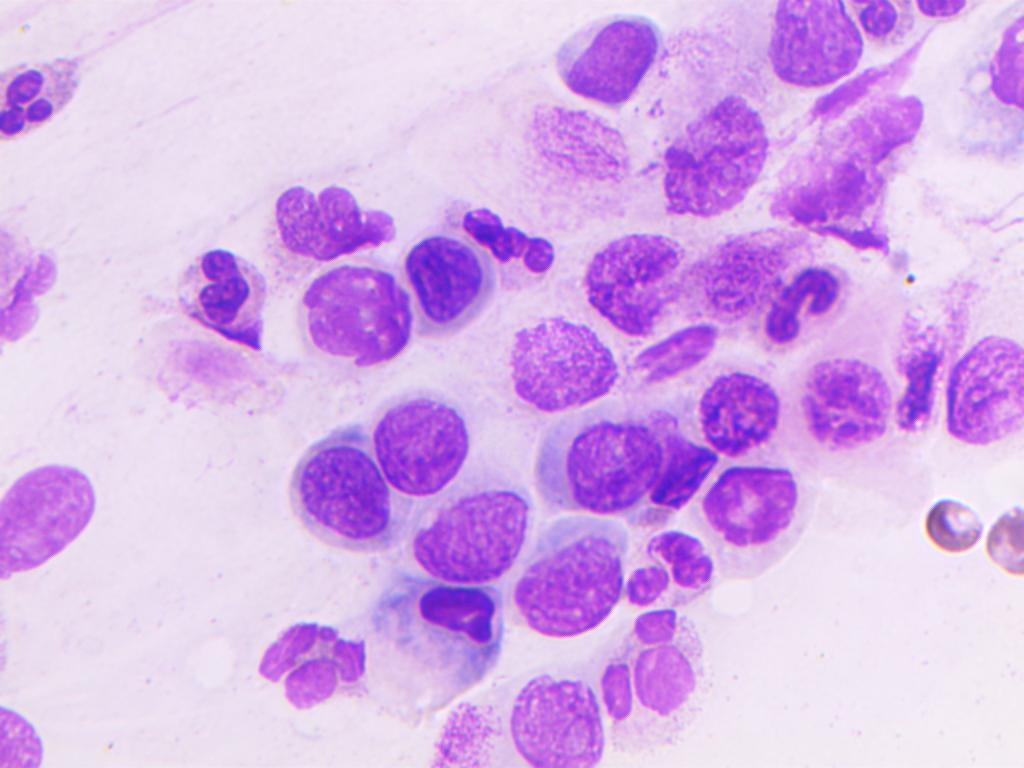artifact: (769, 86, 943, 258), (266, 182, 401, 263), (983, 7, 1024, 133), (917, 493, 988, 564), (989, 489, 1024, 594)
epithelial: (667, 87, 778, 231), (517, 513, 633, 647), (0, 447, 99, 590), (297, 256, 413, 372), (561, 404, 669, 524), (793, 351, 903, 467), (490, 658, 602, 767), (687, 458, 811, 555), (287, 443, 387, 560), (485, 315, 621, 401), (575, 218, 679, 330), (399, 492, 531, 578), (556, 8, 662, 105), (681, 345, 770, 460), (382, 389, 468, 508), (393, 223, 489, 328), (0, 222, 73, 350), (947, 331, 1023, 447), (769, 0, 863, 90), (0, 696, 56, 768)
lymphocyte: (366, 562, 506, 700)
metaplastic: (767, 246, 849, 351), (628, 517, 722, 600)
neutrophil: (609, 609, 717, 760), (228, 610, 376, 717), (169, 247, 278, 358), (1, 54, 86, 150), (466, 196, 558, 276)
